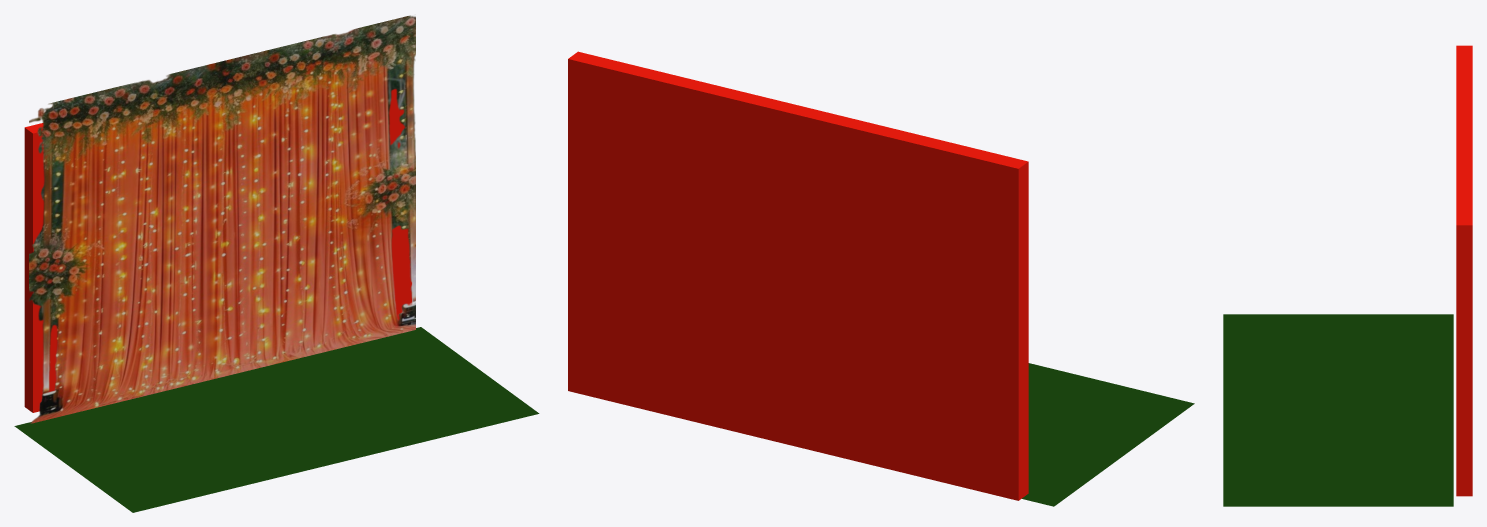
File: mehndi-orange-decoration.glb
The picture shows the model from 3 angles, left to right: view 1: azimuth 30°, elevation 25°; view 2: azimuth 150°, elevation 25°; view 3: azimuth 270°, elevation 25°; orthographic projection. The views are drawn at different scales.
Visible parts, largest first — view 1: Plane (×2), Box; view 2: Box, Plane; view 3: Plane, Box.
Boxes of the visible parts, bbox=[...] form: Plane (×2): bbox=[14, 15, 539, 512]; Box: bbox=[24, 88, 412, 412]; Box: bbox=[568, 51, 1028, 500]; Plane: bbox=[1022, 363, 1194, 506]; Plane: bbox=[1223, 314, 1453, 506]; Box: bbox=[1456, 45, 1472, 496].
Size of the model in its own units: 8.46 by 6.47 by 4.63.
3 materials, 1 textured.
